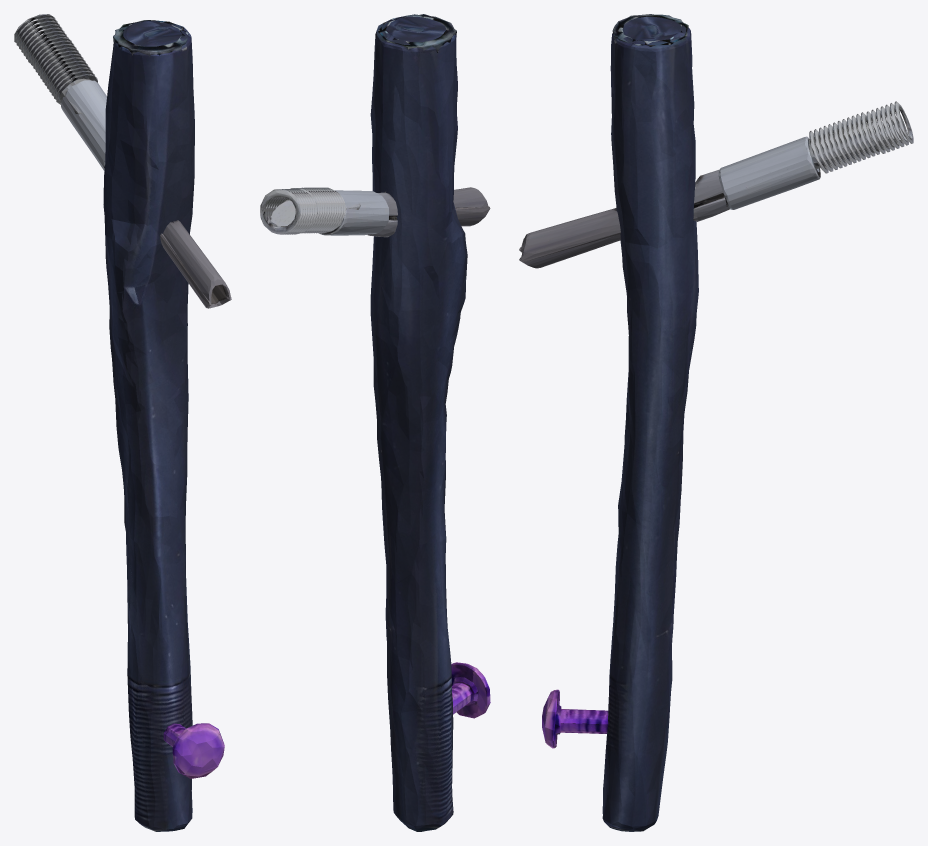
Rendered from Clavopfmejorado.glb.
The picture shows the model from 3 angles, left to right: view 1: azimuth 30°, elevation 25°; view 2: azimuth 150°, elevation 25°; view 3: azimuth 270°, elevation 25°; orthographic projection. The views are drawn at different scales.
Visible parts, largest first — view 1: tripo_part_5, tripo_part_1 (×2), tripo_part_0, tripo_part_9, tripo_part_3; view 2: tripo_part_5, tripo_part_9, tripo_part_0, tripo_part_1 (×2), tripo_part_10, tripo_part_3, tripo_part_8, tripo_part_19; view 3: tripo_part_5, tripo_part_9, tripo_part_1 (×2), tripo_part_0, tripo_part_8, tripo_part_15.
Part boxes in pixels (<box>): tripo_part_5: <box>103,20,194,831</box>; tripo_part_1 (×2): <box>160,220,231,308</box>; tripo_part_0: <box>163,723,224,778</box>; tripo_part_9: <box>61,80,106,171</box>; tripo_part_3: <box>113,20,188,56</box>; tripo_part_5: <box>370,16,467,831</box>; tripo_part_9: <box>319,190,389,235</box>; tripo_part_0: <box>451,662,490,718</box>; tripo_part_1 (×2): <box>453,187,490,226</box>; tripo_part_10: <box>260,189,303,234</box>; tripo_part_3: <box>378,14,456,52</box>; tripo_part_8: <box>368,191,397,237</box>; tripo_part_19: <box>271,200,295,228</box>; tripo_part_5: <box>602,16,698,831</box>; tripo_part_9: <box>718,136,820,209</box>; tripo_part_1 (×2): <box>519,208,620,268</box>; tripo_part_0: <box>542,689,608,748</box>; tripo_part_8: <box>693,169,729,221</box>; tripo_part_15: <box>809,123,899,168</box>.
Size of the model in its own units: 0.098 by 0.9385 by 0.4215.
Materials: 31 (31 with a texture image).
